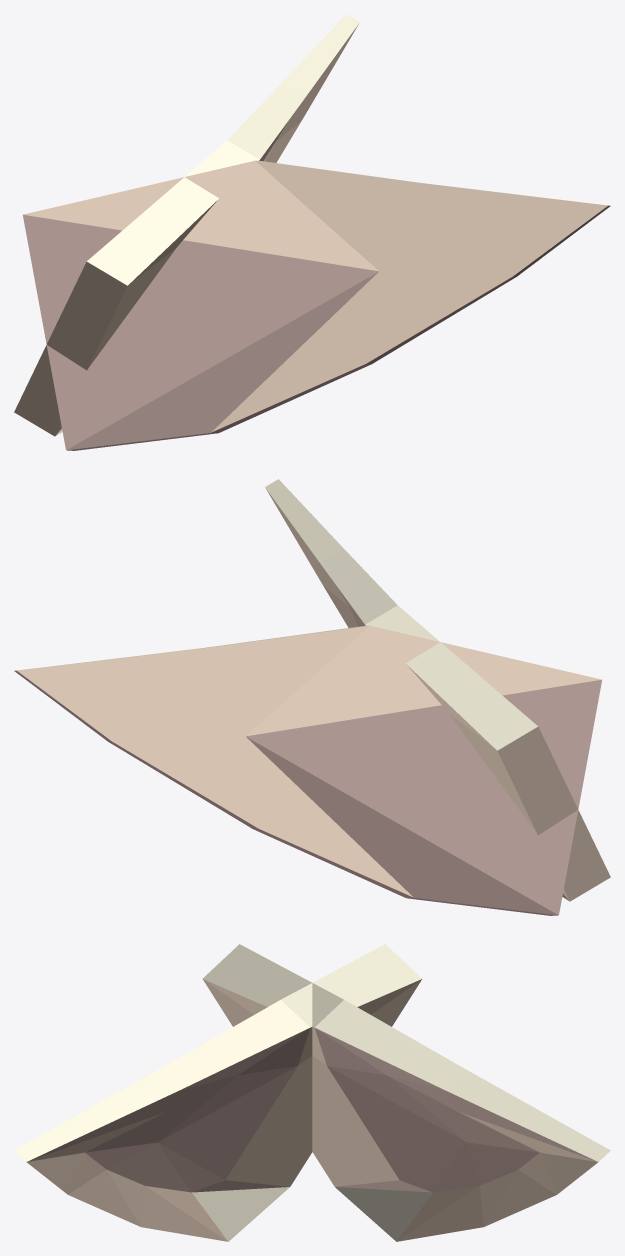
Rendered from px_swept.glb.
The picture shows the model from 3 angles, top to bottom: view 1: azimuth 30°, elevation 25°; view 2: azimuth 150°, elevation 25°; view 3: azimuth 270°, elevation 25°; orthographic projection. The views are drawn at different scales.
Visible parts, largest first — view 1: Ear_R, Ear_L; view 2: Ear_L, Ear_R; view 3: Ear_L, Ear_R.
Part boxes in pixels (x1,y1,x2,y2): Ear_R: (23,160,610,450); Ear_L: (14,14,359,436); Ear_L: (14,625,601,915); Ear_R: (265,479,610,901); Ear_L: (202,944,610,1241); Ear_R: (14,944,422,1241).
Bounding box in the file's own units: 0.0968 × 0.052 × 0.0985.
Materials: 1 (1 with a texture image).
